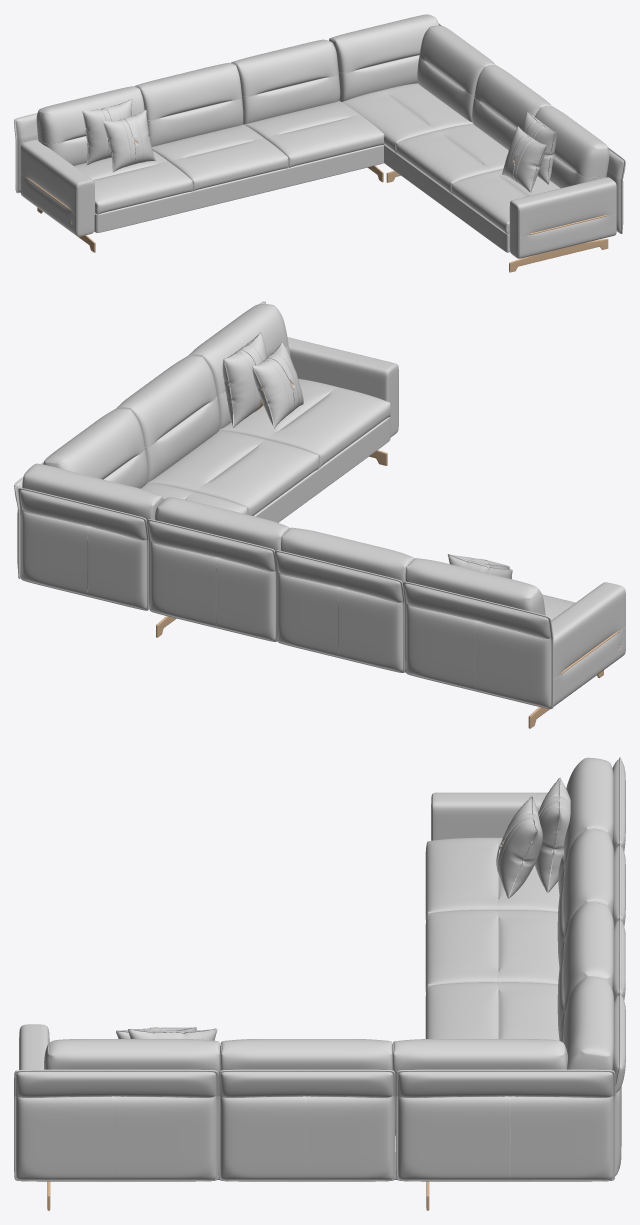
The model's file is SLN_DENVER_6_SEATER.glb.
3 views of the same model, one above another, from view 1: azimuth 30°, elevation 25°; view 2: azimuth 150°, elevation 25°; view 3: azimuth 270°, elevation 25° (orthographic). The views are drawn at different scales.
Parts seen in each view (by area): view 1: DENVER_6_SEATER; view 2: DENVER_6_SEATER; view 3: DENVER_6_SEATER.
Part boxes in pixels (left/top/right/bottom): DENVER_6_SEATER: left=14, top=14, right=625, bottom=272; DENVER_6_SEATER: left=14, top=301, right=625, bottom=728; DENVER_6_SEATER: left=14, top=757, right=625, bottom=1210.
Bounding box in the file's own units: 3.5 × 0.8348 × 2.86.
